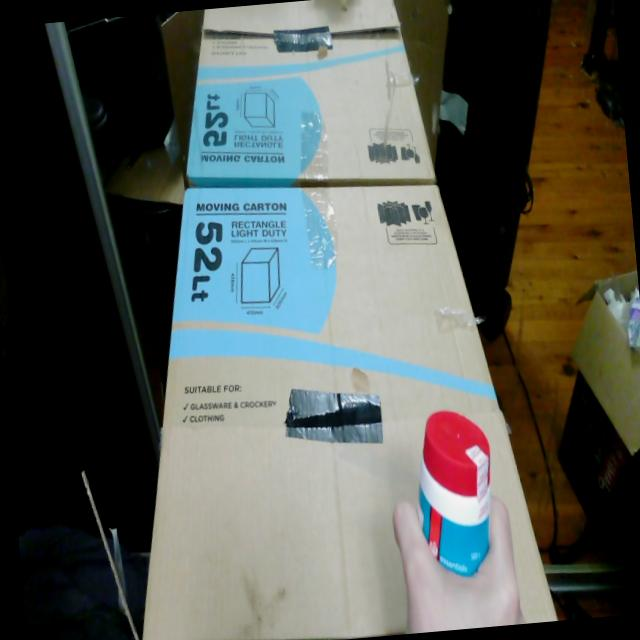woolworths_salt_bottle: (417, 410, 491, 575)
